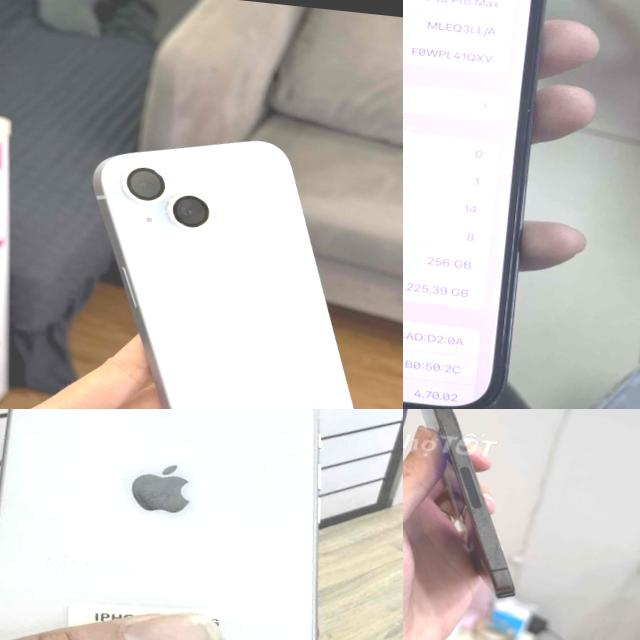gen_12_13: (403, 0, 566, 409), (403, 409, 551, 608)
gen_15: (72, 125, 402, 409)
gen_7_8: (0, 409, 375, 640)
